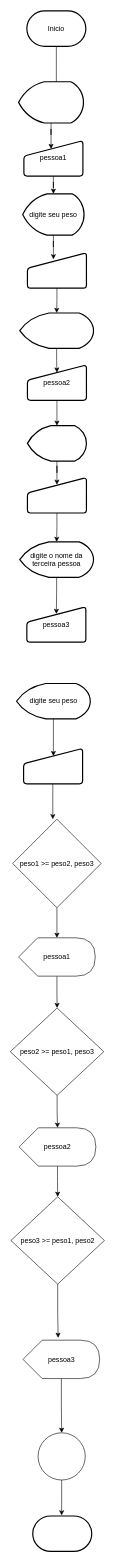
This 115x1562 diagram has some shape labels left out. Here are the shapes that lost their labels. From the top down, the box of each, then its label:
(18, 81, 84, 123): digite o nome a primeira pessoa
(27, 252, 87, 289): peso1
(19, 312, 94, 349): digite o nome da segunda pessoa
(27, 425, 87, 461): digite o seu peso
(27, 477, 87, 513): peso2
(23, 748, 83, 784): peso3
(32, 1515, 92, 1552): fim
